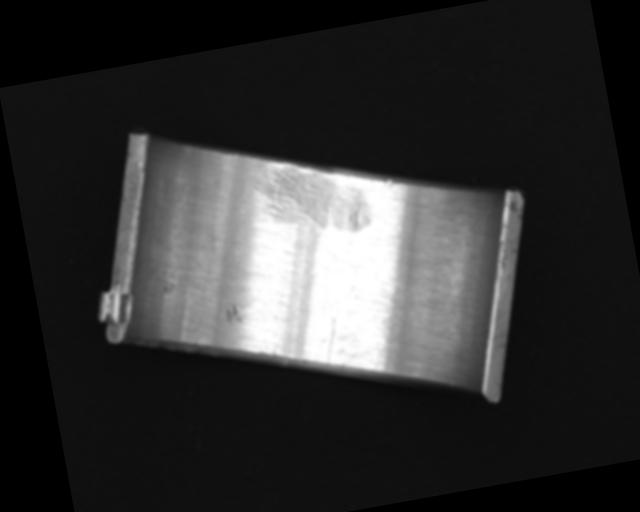bruise: (223, 303, 243, 327), (383, 177, 394, 188)
nick: (318, 316, 345, 367)
scratch: (250, 148, 376, 248)
